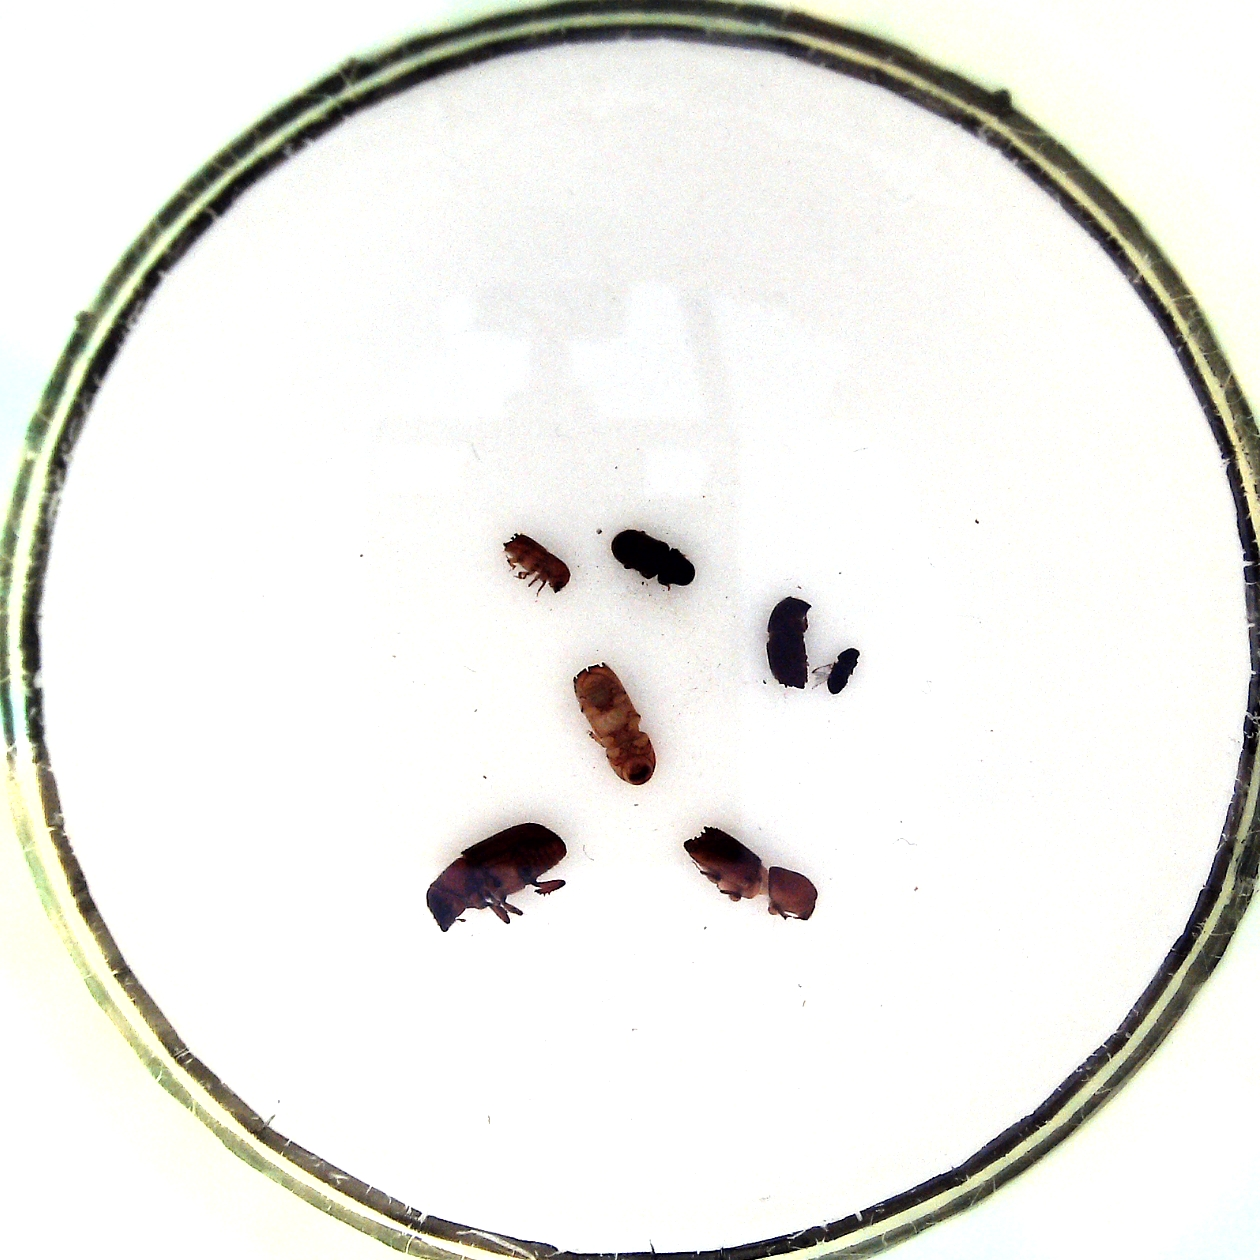Boerner: (681, 824, 824, 927), (570, 659, 658, 787)
Leconte: (419, 818, 571, 931)
Linnaeus: (763, 590, 815, 691)
acuminatus: (498, 528, 573, 598)
armandi: (607, 522, 699, 591)
coleoptera: (815, 644, 860, 698)
